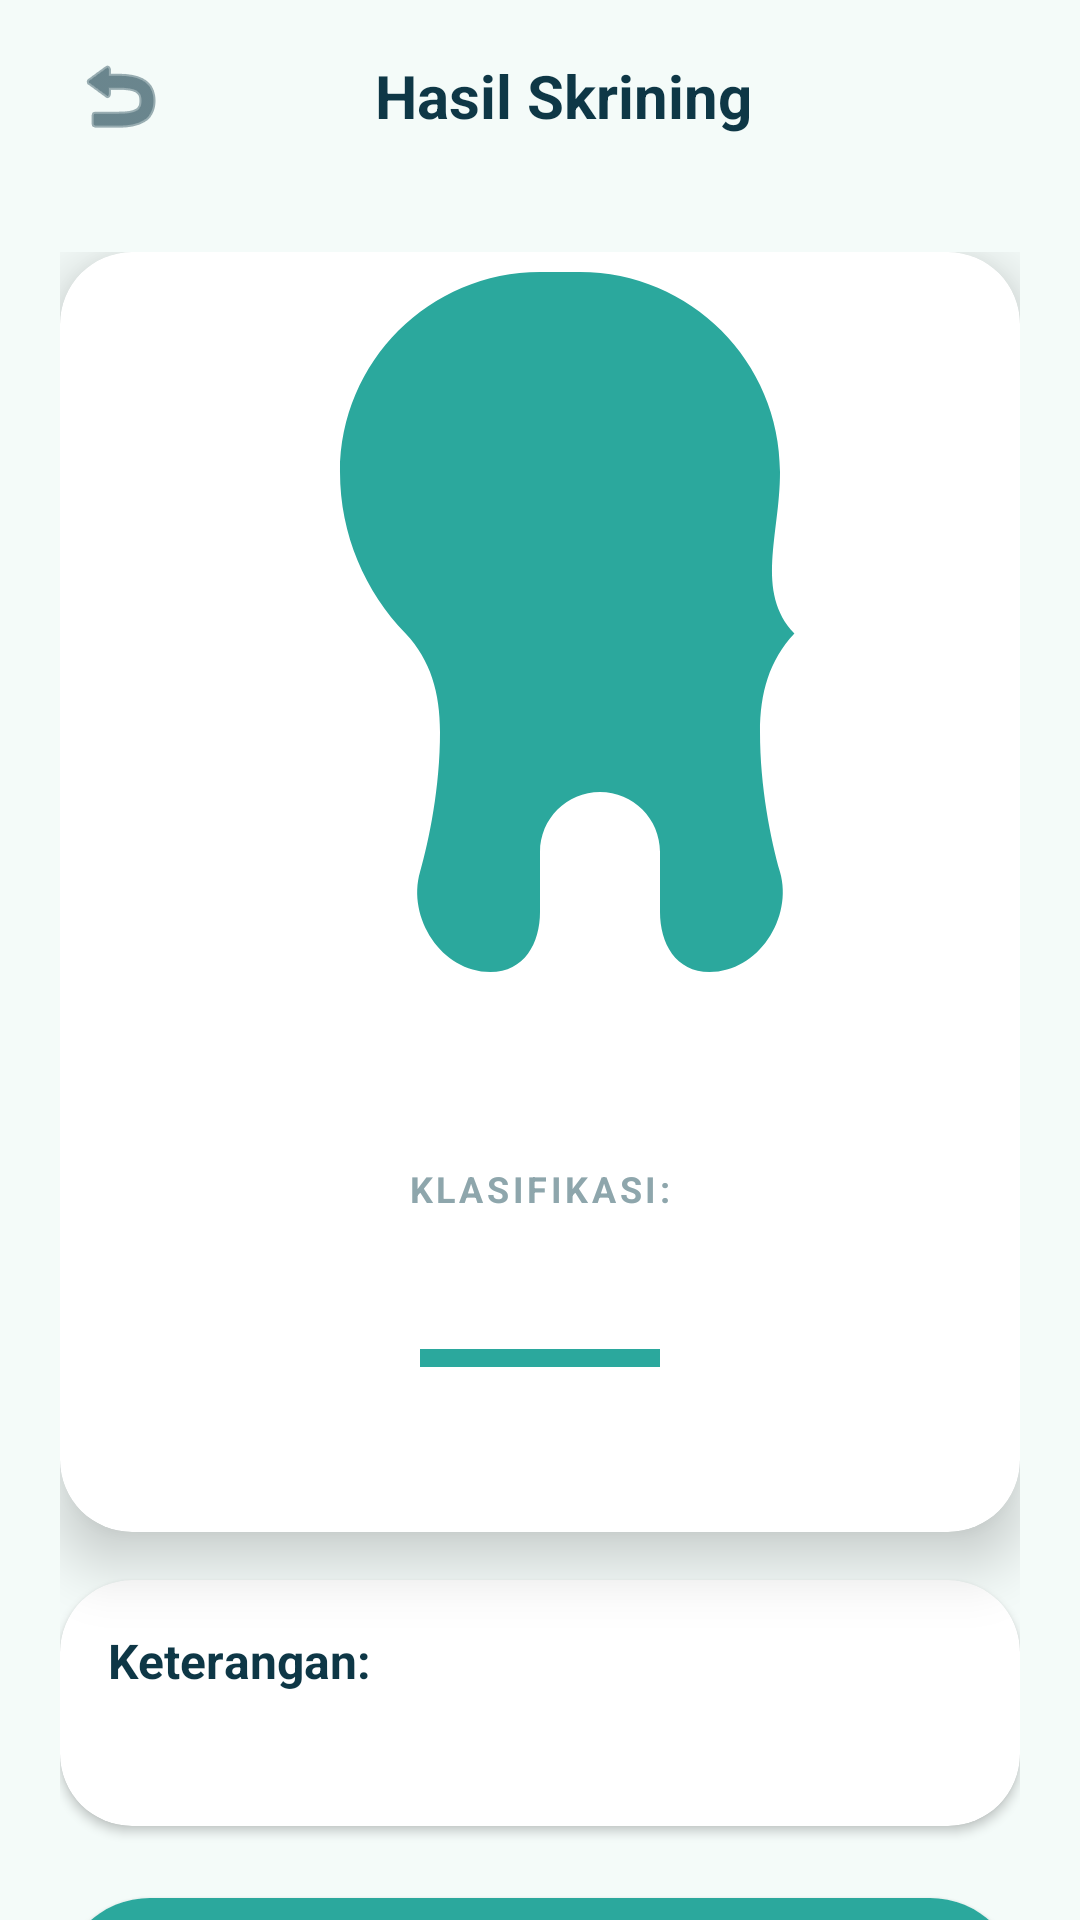

Named icons in this screenshot (1080 × 1920) and their centers, point (x, y):
Back: point (121, 96)
